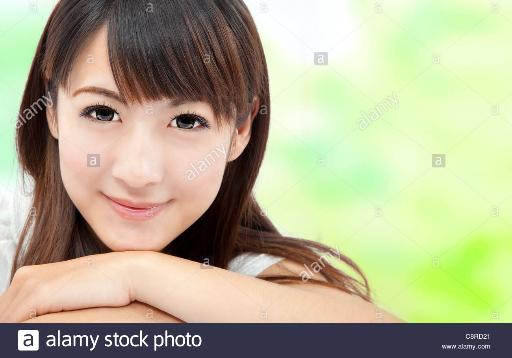left_eye: (166, 114, 213, 133)
left_lip_corner: (167, 197, 181, 207)
right_eye: (82, 105, 124, 124)
right_lip_corner: (98, 188, 109, 201)
